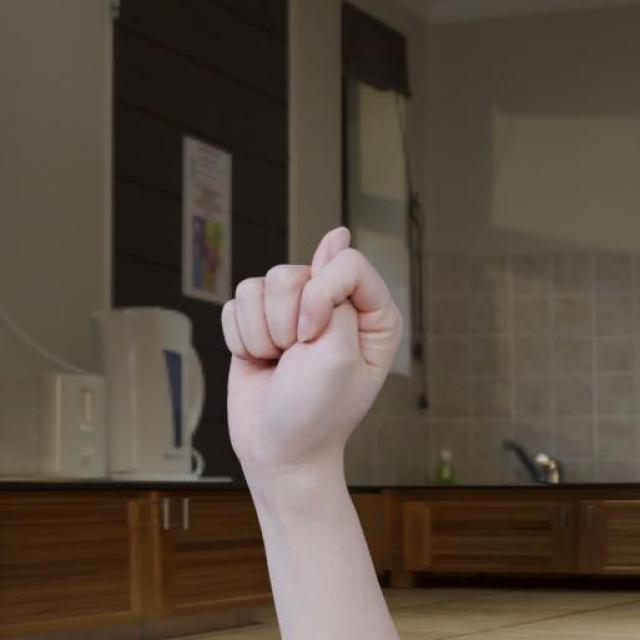T: (213, 223, 407, 472)
